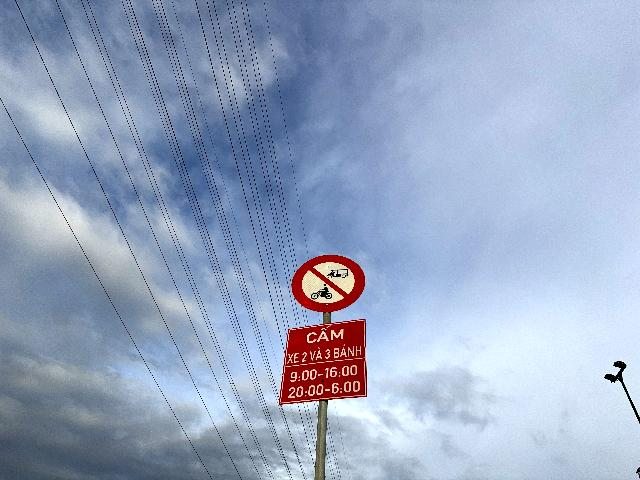cam-xe-2-banh-3-banh: (292, 254, 366, 312)
